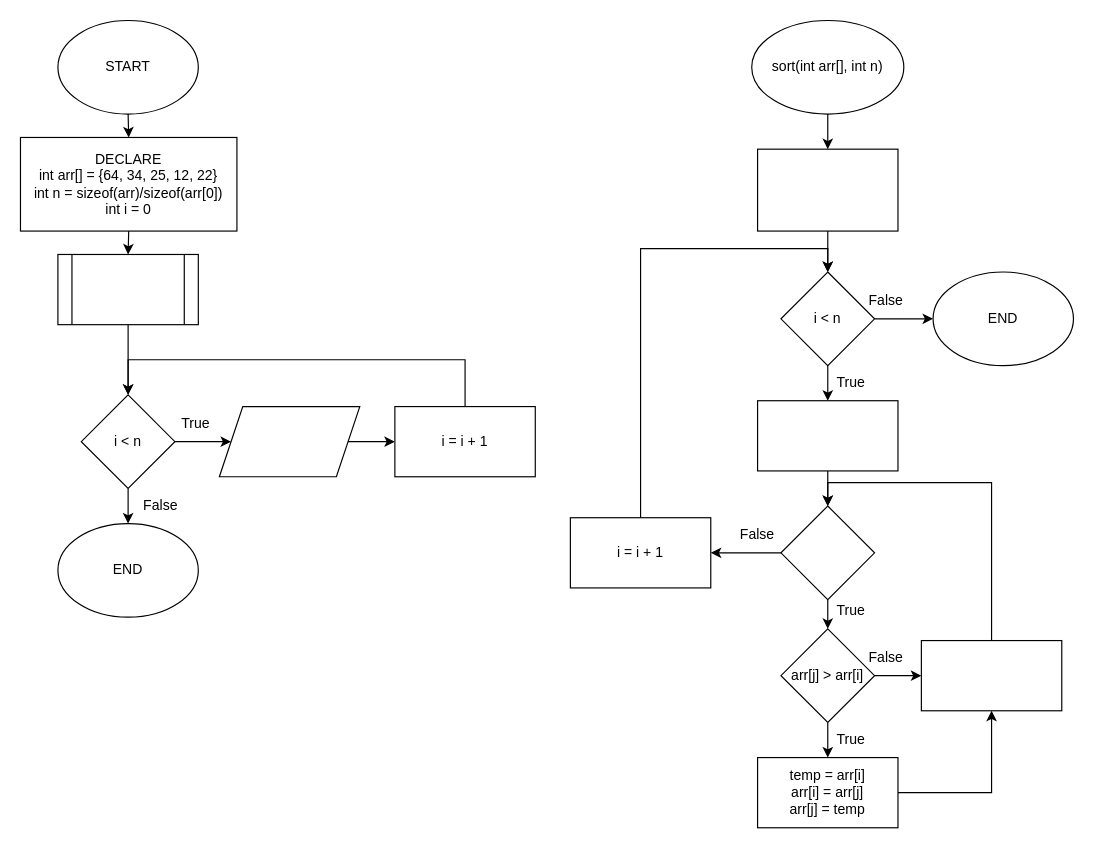
The diagram is 1094 pixels wide and 848 high, and some of its shapes have lost their labels. Here are the shapes that lost their labels. From the top down, the box of each, then its label:
(756, 148, 898, 231): DECLARE int i = 0 int temp
(57, 253, 198, 325): sort(arr, n)
(218, 405, 360, 477): PRINT arr[i]
(756, 400, 898, 471): DECLARE int j = 0
(780, 505, 875, 600): j < n
(920, 639, 1062, 711): j = j + 1
